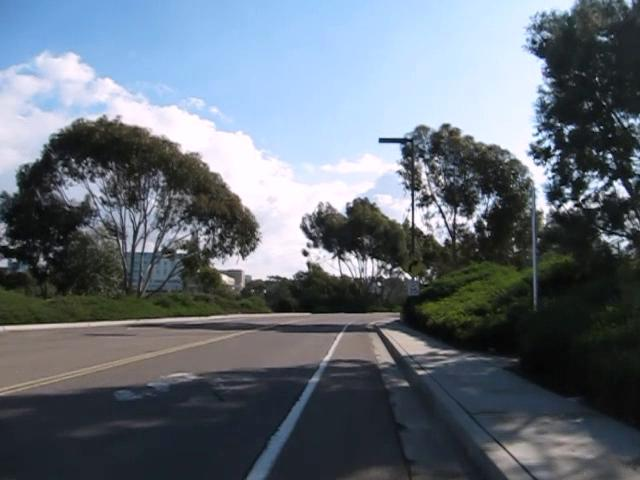speedLimit35: (405, 279, 420, 296)
